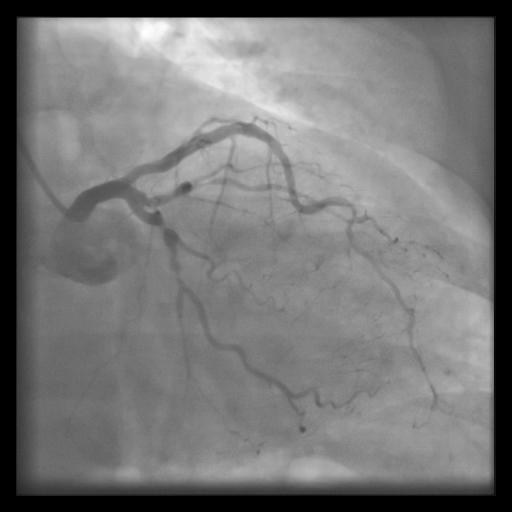Stenosis: (151, 214, 174, 243)
